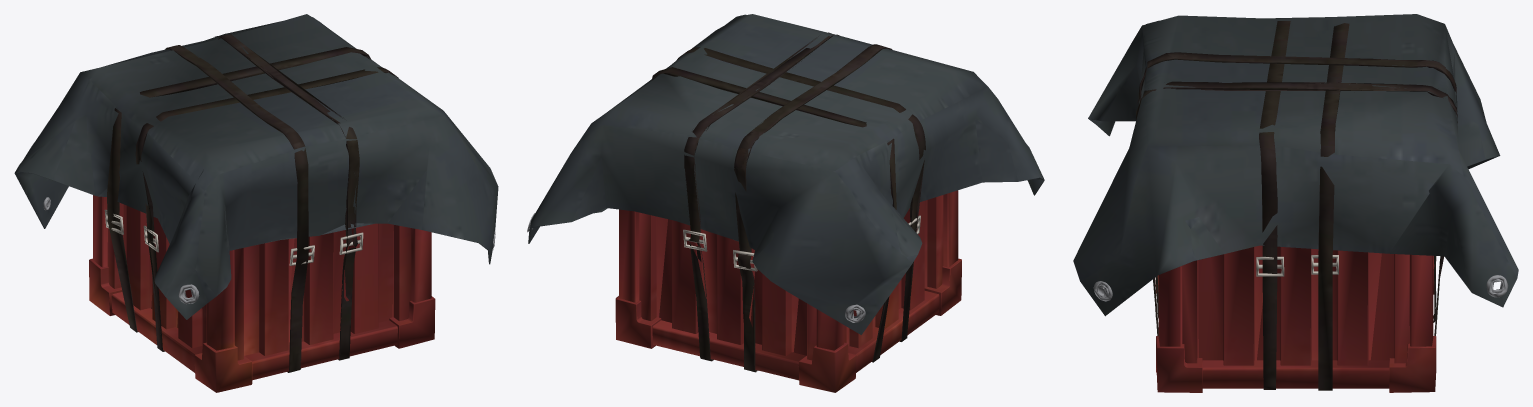
The model's file is airdrop.glb.
3 renders of one model, left to right at view 1: azimuth 30°, elevation 25°; view 2: azimuth 150°, elevation 25°; view 3: azimuth 270°, elevation 25°, orthographic. The views are drawn at different scales.
Parts seen in each view (by area): view 1: defaultMaterial (×8); view 2: defaultMaterial (×7); view 3: defaultMaterial (×8).
Boxes of the visible parts, x1,y1,x2,y2 form: defaultMaterial (×8): (14,14,498,392); defaultMaterial (×7): (528,14,1044,392); defaultMaterial (×8): (1073,14,1518,392).
Bounding box in the file's own units: 1.8 × 1.15 × 1.76.
6 materials, 4 textured.
